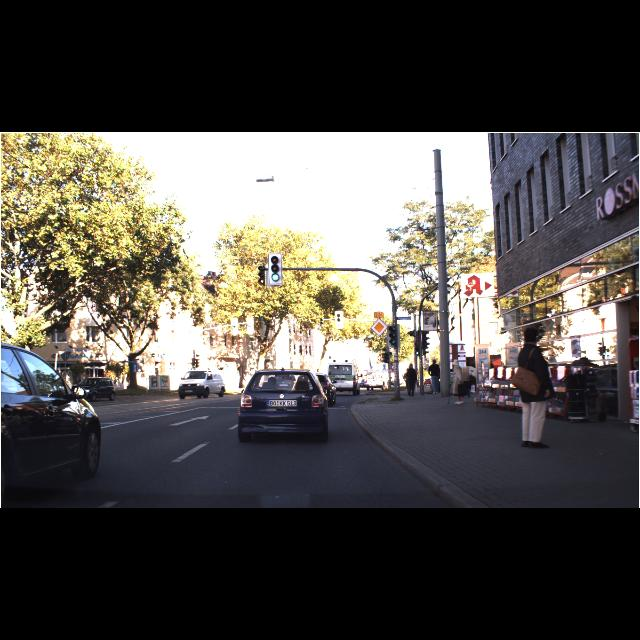other: (370, 318, 388, 337)
